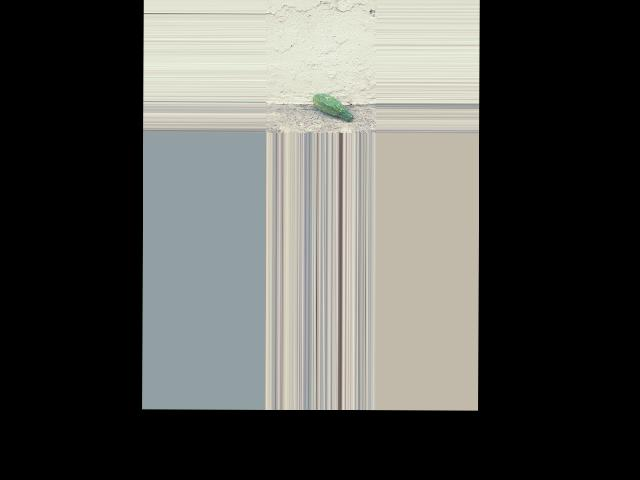cucumber: (312, 92, 352, 121)
